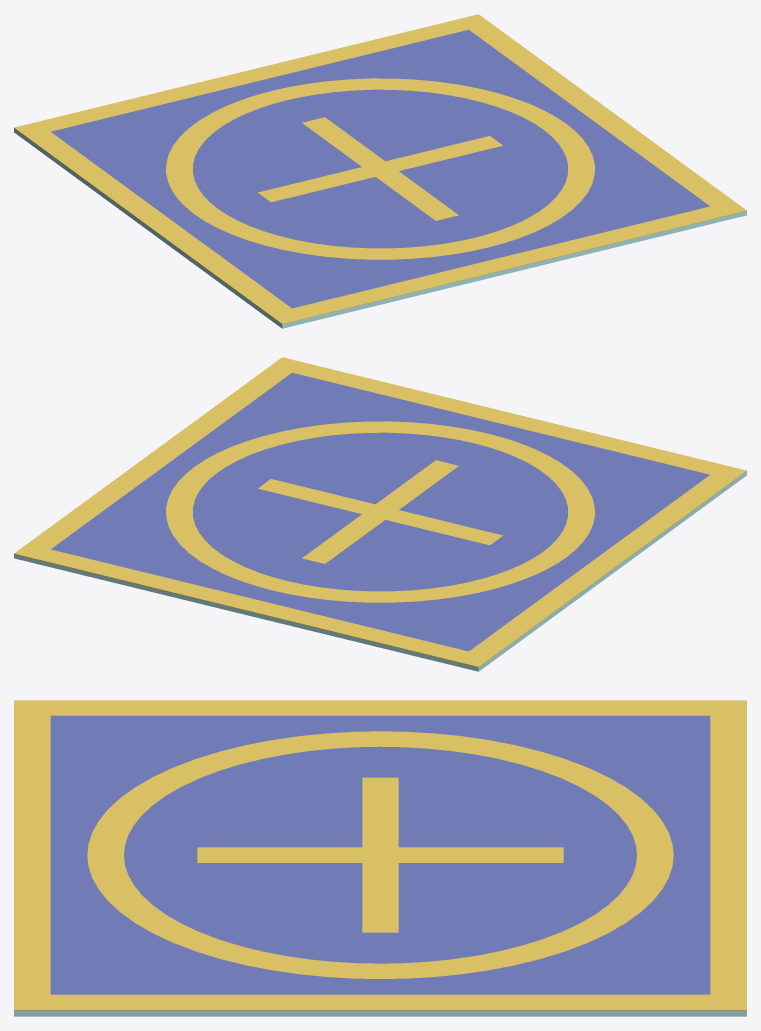
Rendered from tray.dae.
3 views of the same model, one above another, from view 1: azimuth 30°, elevation 25°; view 2: azimuth 150°, elevation 25°; view 3: azimuth 270°, elevation 25° (orthographic). The views are drawn at different scales.
Visible parts, largest first — view 1: land_base_1_blue_circle_Body4.004, land_base_1_blue_frame_Body2.005, land_base_1_yellow_frame_Body1.022, land_base_1_yellow_circle_Body3.004, land_base_1_cross_Body5.003, land_base_plate_1_Body1.009; view 2: land_base_1_blue_circle_Body4.004, land_base_1_blue_frame_Body2.005, land_base_1_yellow_frame_Body1.022, land_base_1_yellow_circle_Body3.004, land_base_1_cross_Body5.003, land_base_plate_1_Body1.009; view 3: land_base_1_blue_circle_Body4.004, land_base_1_blue_frame_Body2.005, land_base_1_yellow_frame_Body1.022, land_base_1_yellow_circle_Body3.004, land_base_1_cross_Body5.003, land_base_plate_1_Body1.009.
Part boxes in pixels (left/top/right/bottom): land_base_1_blue_circle_Body4.004: left=193, top=89, right=567, bottom=248; land_base_1_blue_frame_Body2.005: left=51, top=29, right=709, bottom=308; land_base_1_yellow_frame_Body1.022: left=14, top=14, right=746, bottom=324; land_base_1_yellow_circle_Body3.004: left=166, top=78, right=594, bottom=259; land_base_1_cross_Body5.003: left=258, top=117, right=502, bottom=220; land_base_plate_1_Body1.009: left=14, top=128, right=746, bottom=328; land_base_1_blue_circle_Body4.004: left=193, top=432, right=567, bottom=591; land_base_1_blue_frame_Body2.005: left=51, top=372, right=709, bottom=651; land_base_1_yellow_frame_Body1.022: left=14, top=357, right=746, bottom=667; land_base_1_yellow_circle_Body3.004: left=166, top=421, right=594, bottom=602; land_base_1_cross_Body5.003: left=258, top=460, right=502, bottom=563; land_base_plate_1_Body1.009: left=14, top=471, right=746, bottom=671; land_base_1_blue_circle_Body4.004: left=124, top=746, right=636, bottom=963; land_base_1_blue_frame_Body2.005: left=50, top=715, right=710, bottom=994; land_base_1_yellow_frame_Body1.022: left=14, top=700, right=746, bottom=1010; land_base_1_yellow_circle_Body3.004: left=87, top=731, right=673, bottom=978; land_base_1_cross_Body5.003: left=197, top=777, right=563, bottom=932; land_base_plate_1_Body1.009: left=14, top=1010, right=746, bottom=1016.
Size of the model in its own units: 1 by 1 by 0.1807.
